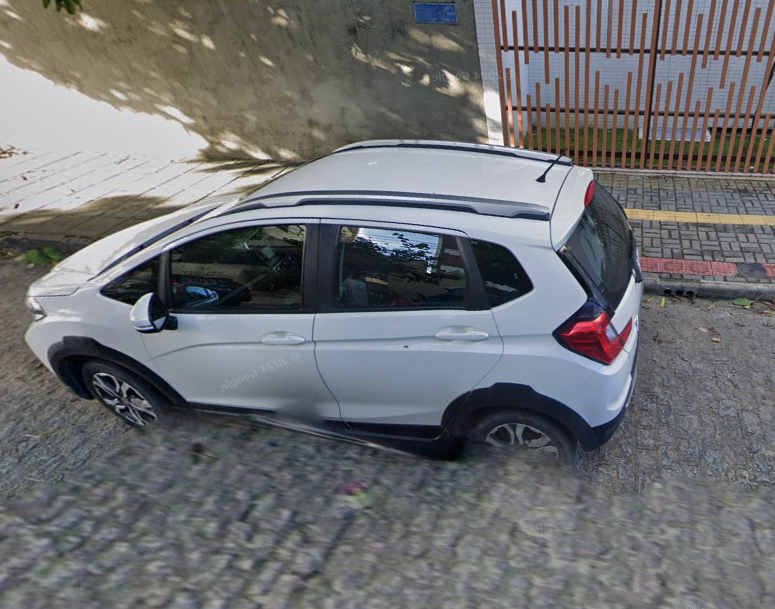car: (20, 132, 648, 509)
